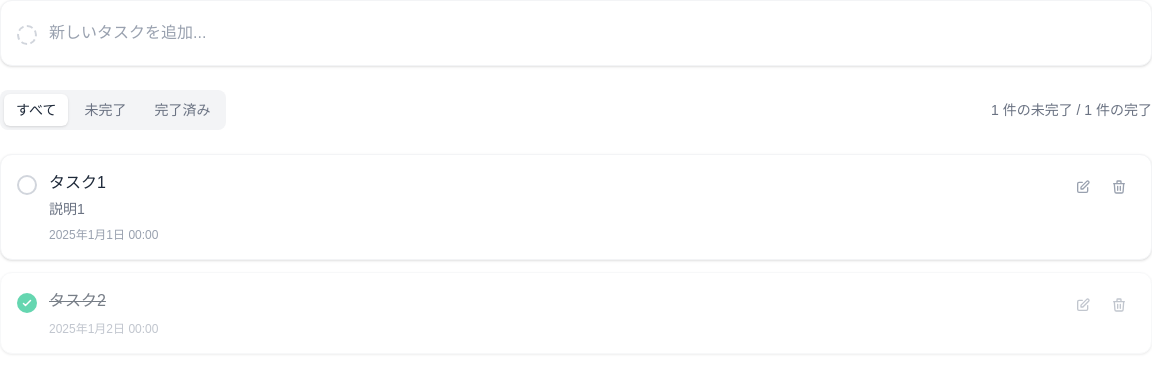
Test: TodoList › フィルターで完了済みのみ表示できる
Expected: the heading "タスク1" is shown, [49,174,106,191]
Click the button "完了済み" at coordinates (182, 110), box [142,94,222,126]
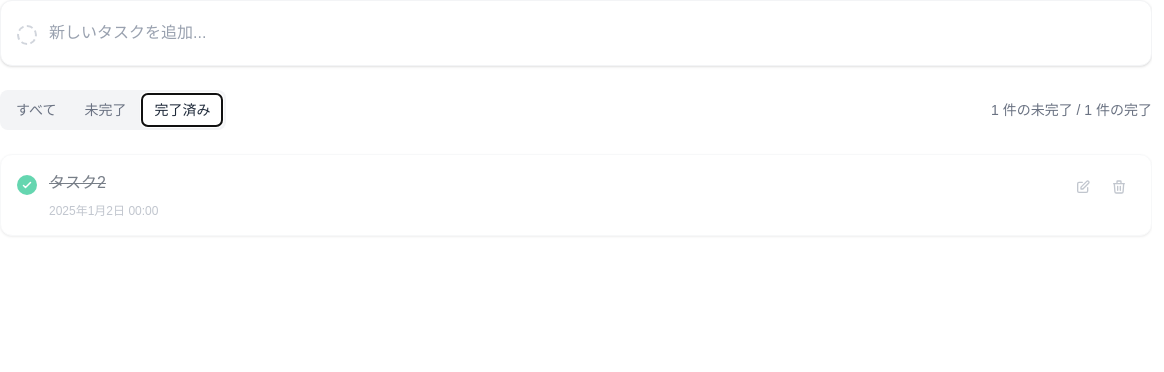
Expected: the heading "タスク2" is shown, [49,174,106,191]
Expected: the heading "タスク1" is gone
